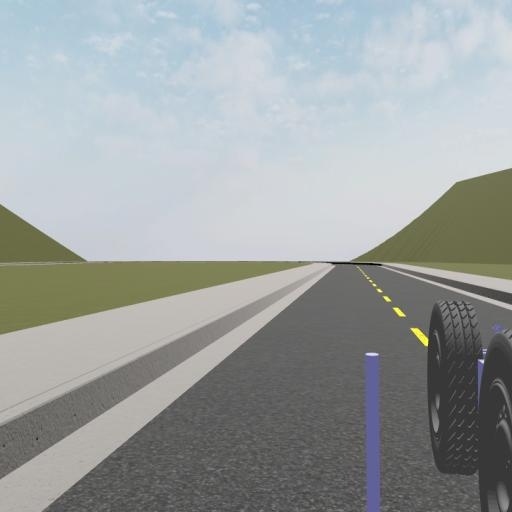ERP-42: (430, 301, 512, 512)
